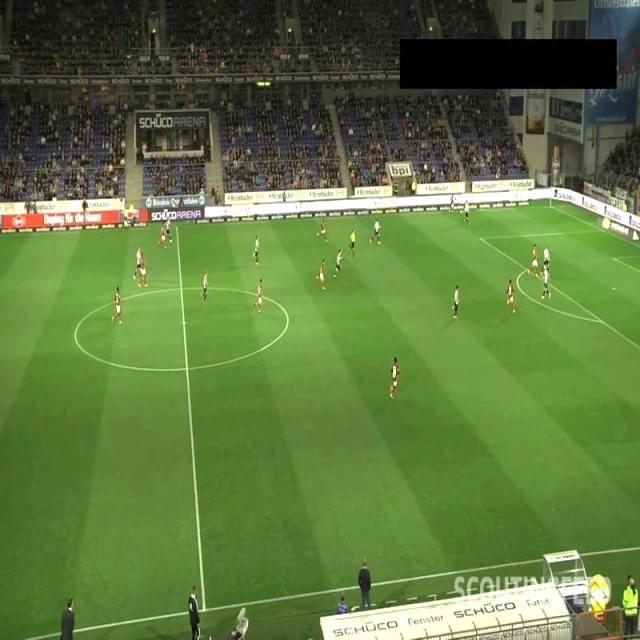bigarea_top_inner: (475, 232, 487, 245)
bigarea_top_outter: (594, 223, 612, 239)
bottom_arc_area_intersection: (596, 314, 610, 330)
corner: (544, 202, 555, 213)
halfcircle_bottom: (181, 362, 193, 376)
halfcircle_top: (176, 282, 187, 292)
midline_bottom_intersection: (198, 602, 212, 618)
midline_top_intersection: (172, 220, 182, 230)
smallarea_top_inner: (607, 252, 619, 265)
top_arc_area_intersection: (522, 264, 533, 276)
